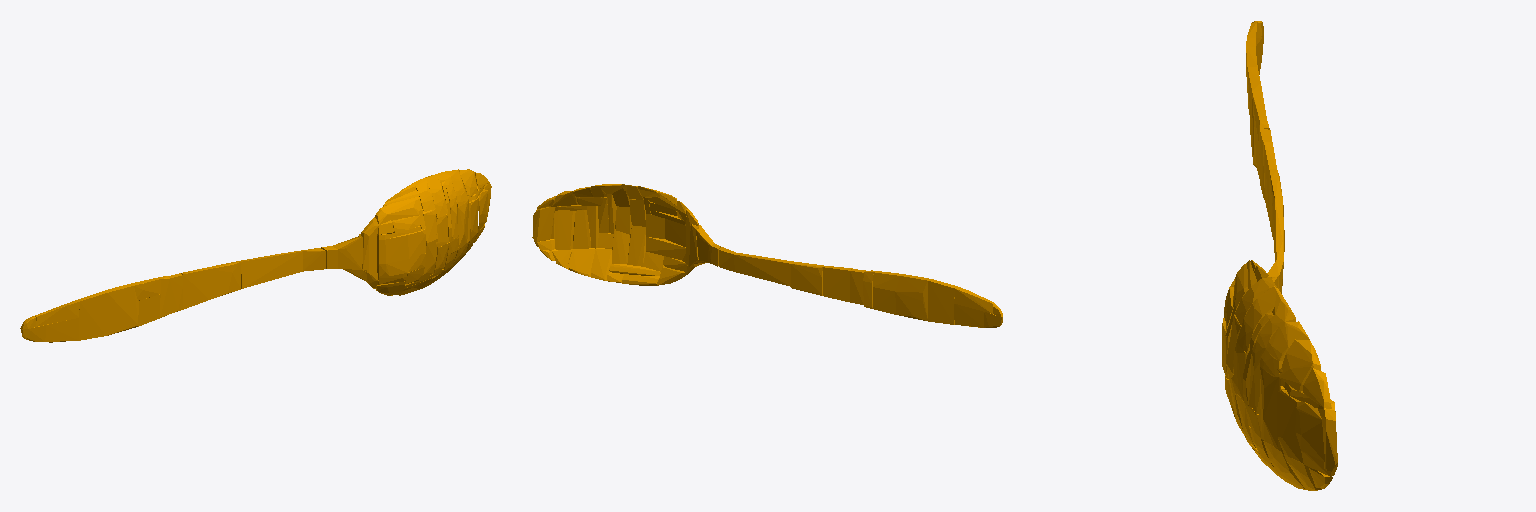
URDF robot description (cutlery-spoon):
<?xml version="1.0" ?>
<robot name="cutlery-spoon">
  <link name="baseLink">
    <contact>
      <lateral_friction value="1.0"/>
      <inertia_scaling value="3.0"/>
    </contact>
    <inertial>
      <origin rpy="0 0 0" xyz="0.000 0.000 0.000"/>
       <mass value=".1"/>
       <inertia ixx="1" ixy="0.0" ixz="0.0" iyy="1" iyz="0.0" izz="1"/>
    </inertial>
    <visual>
      <origin rpy="0 0 0" xyz="0 0 0"/>
      <geometry>
        <mesh filename="cutlery/cutlery-spoon_4_new.obj" scale="1.0 1.0 1.0"/>
      </geometry>
    </visual>
    <collision>
      <origin rpy="0 0 0" xyz="0 0 0"/>
      <geometry>
        <mesh filename="../collision/cutlery/cutlery-spoon_4_new.obj" scale="1.0 1.0 1.0"/>
      </geometry>
    </collision>
  </link>
</robot>
        

--- What the picture shows (computed from the rendered views, not written in the file) ---
The picture shows the robot from 3 angles, left to right: view 1: azimuth 30°, elevation 25°; view 2: azimuth 150°, elevation 25°; view 3: azimuth 270°, elevation 25°; orthographic projection.
Robot: cutlery-spoon — 1 links, 0 joints (none); root link baseLink; default pose: all joints at 0.
Visible links, largest first — view 1: baseLink; view 2: baseLink; view 3: baseLink.
Boxes of the visible links, x1,y1,x2,y2 form: baseLink: (20,169,491,342); baseLink: (532,184,1002,327); baseLink: (1222,21,1337,490).
Size in the robot's own frame: 0.1936 by 0.0237 by 0.0411 metres.
Meshes: 1 distinct files referenced, 1 mesh visuals loaded (1 OBJ).